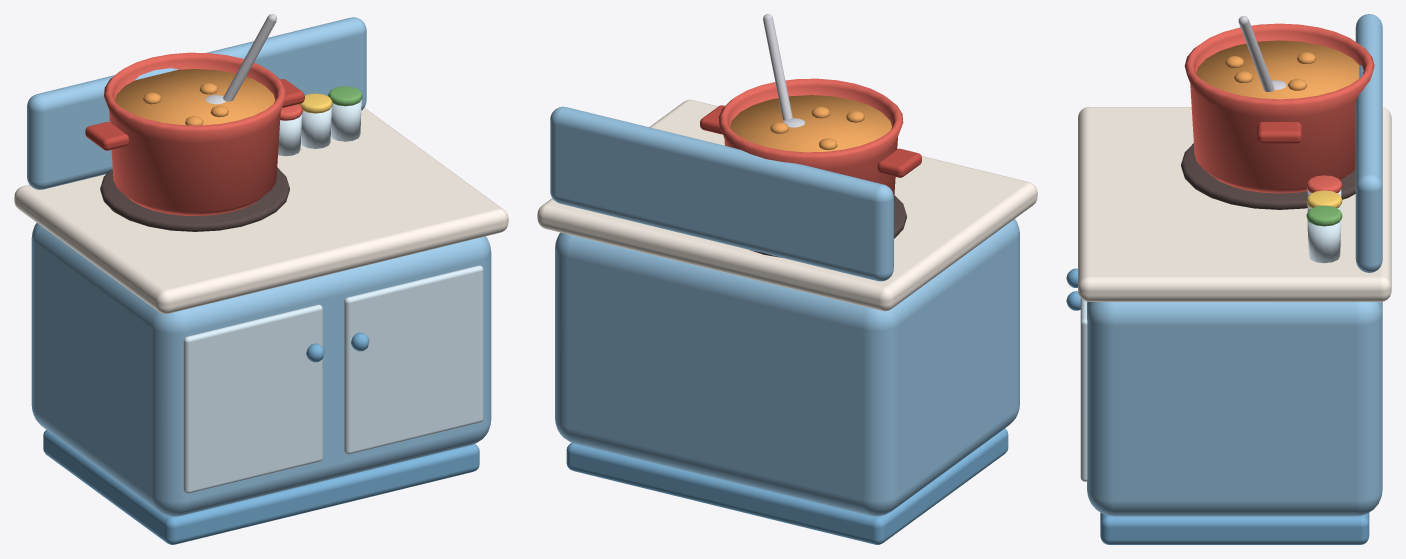
The model's file is station_soup.glb.
3 renders of one model, left to right at view 1: azimuth 30°, elevation 25°; view 2: azimuth 150°, elevation 25°; view 3: azimuth 270°, elevation 25°, orthographic. The views are drawn at different scales.
Visible parts, largest first — view 1: SoupPot, Cooking; view 2: SoupPot, Cooking; view 3: SoupPot, Cooking.
Boxes of the visible parts, <box> form: SoupPot: <box>14,14,508,544</box>; Cooking: <box>143,83,228,125</box>; SoupPot: <box>537,14,1037,544</box>; Cooking: <box>770,106,864,149</box>; SoupPot: <box>1066,14,1391,544</box>; Cooking: <box>1225,52,1316,90</box>.
Size of the model in its own units: 0.94 by 1.13 by 0.726.
